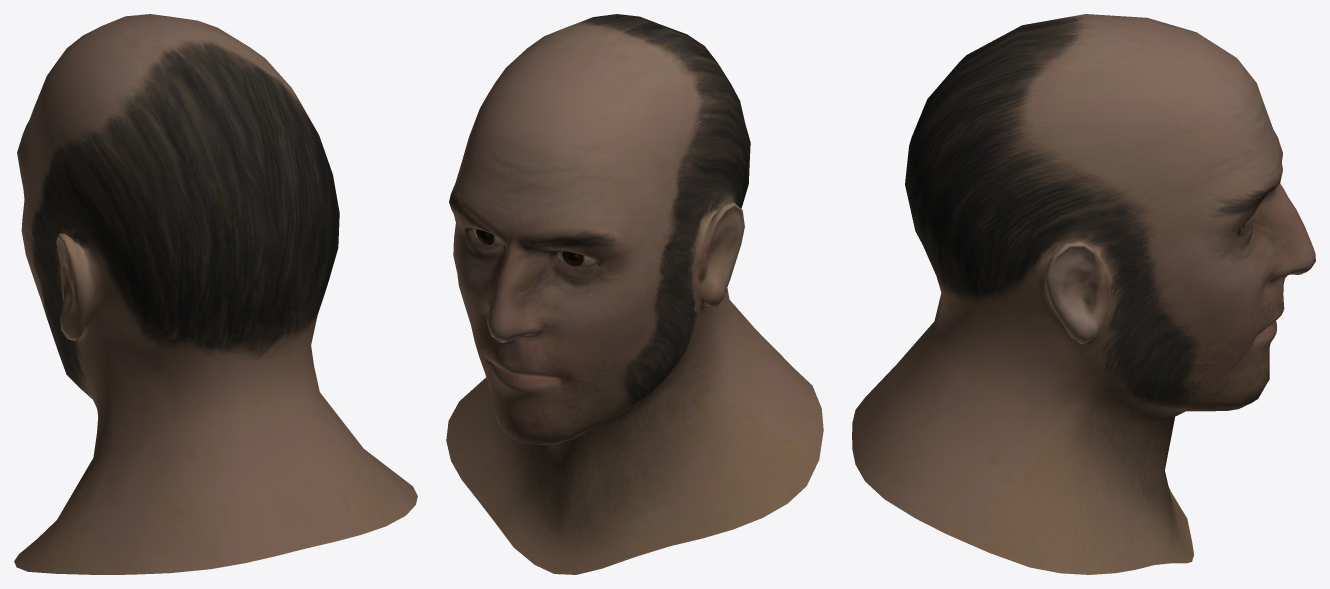
The model's file is G3_Head_Hero_Myrtana_Animated_03_S03.obj.
The picture shows the model from 3 angles, left to right: view 1: azimuth 30°, elevation 25°; view 2: azimuth 150°, elevation 25°; view 3: azimuth 270°, elevation 25°; orthographic projection. The views are drawn at different scales.
Parts seen in each view (by area): view 1: G3_Animation_Head_Main_03; view 2: G3_Animation_Head_Main_03; view 3: G3_Animation_Head_Main_03.
Boxes of the visible parts, x1,y1,x2,y2 form: G3_Animation_Head_Main_03: (14, 14, 417, 574); G3_Animation_Head_Main_03: (446, 14, 823, 574); G3_Animation_Head_Main_03: (852, 14, 1315, 574).
Size of the model in its own units: 0.2428 by 0.3384 by 0.2688.
